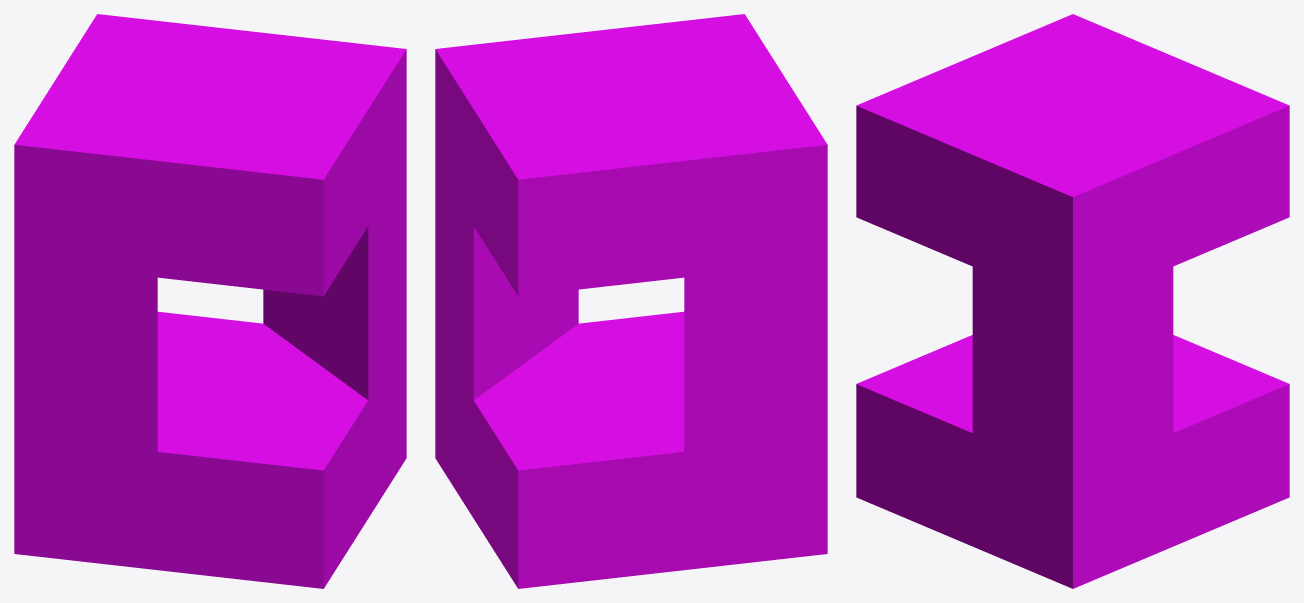
File: var_3.glb
3 renders of one model, left to right at view 1: azimuth 30°, elevation 25°; view 2: azimuth 150°, elevation 25°; view 3: azimuth 270°, elevation 25°, orthographic. The views are drawn at different scales.
Parts seen in each view (by area): view 1: var_3; view 2: var_3; view 3: var_3.
Boxes of the visible parts, x1,y1,x2,y2 form: var_3: [14, 14, 406, 588]; var_3: [435, 14, 827, 588]; var_3: [856, 14, 1289, 588].
Size of the model in its own units: 1.99 by 1.98 by 1.99.
